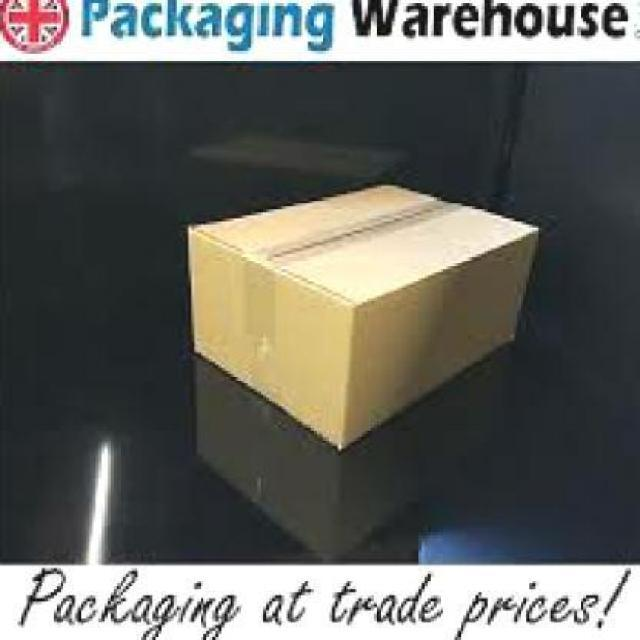-: (183, 184, 541, 457)
